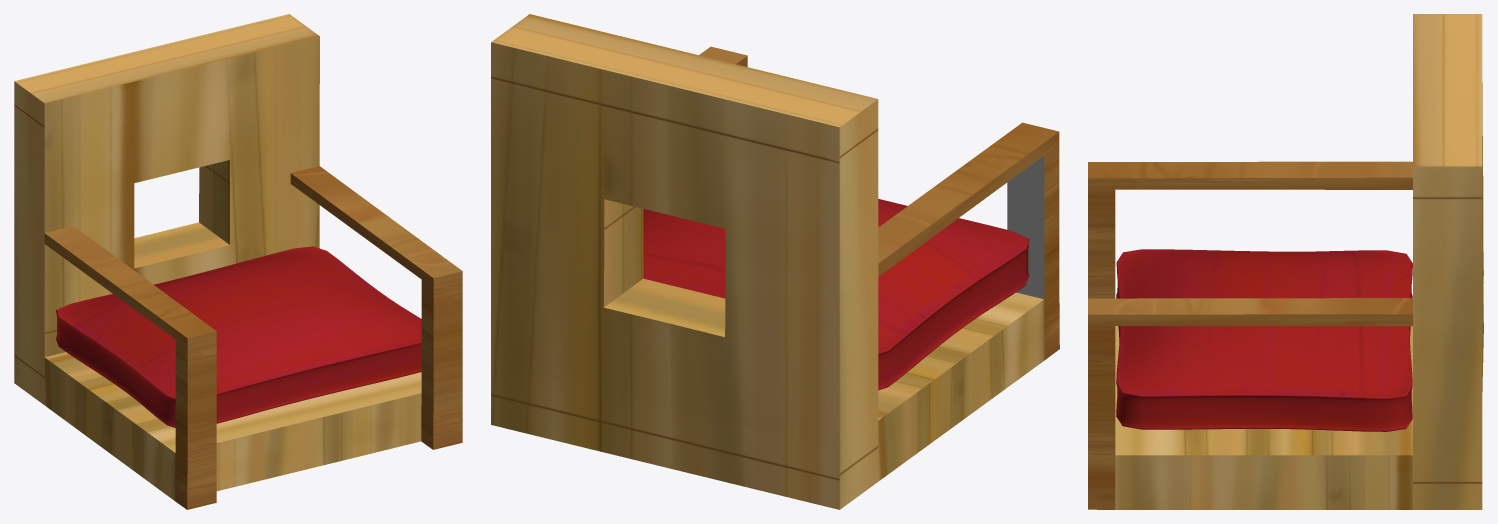
The model's file is chair.fbx.
3 renders of one model, left to right at view 1: azimuth 30°, elevation 25°; view 2: azimuth 150°, elevation 25°; view 3: azimuth 270°, elevation 25°, orthographic. The views are drawn at different scales.
Parts seen in each view (by area): view 1: pCube49; view 2: pCube49; view 3: pCube49.
Part boxes in pixels (x1,y1,x2,y2): pCube49: [14, 14, 462, 509]; pCube49: [491, 14, 1059, 509]; pCube49: [1088, 14, 1483, 509].
Size of the model in its own units: 5.6 by 5.87 by 6.13.
Materials: 4 (3 with a texture image).
